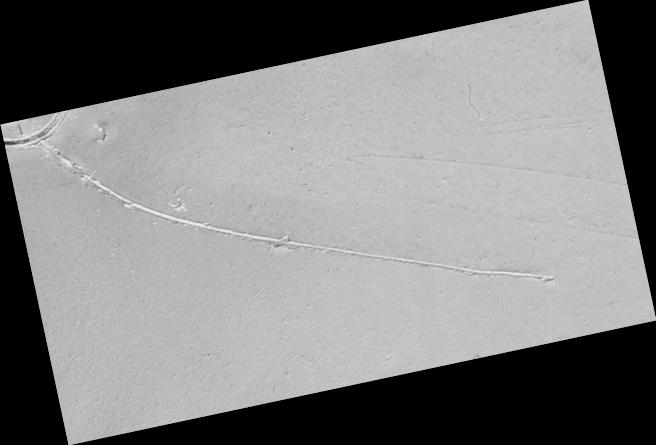scratch: (1, 0, 656, 445)
